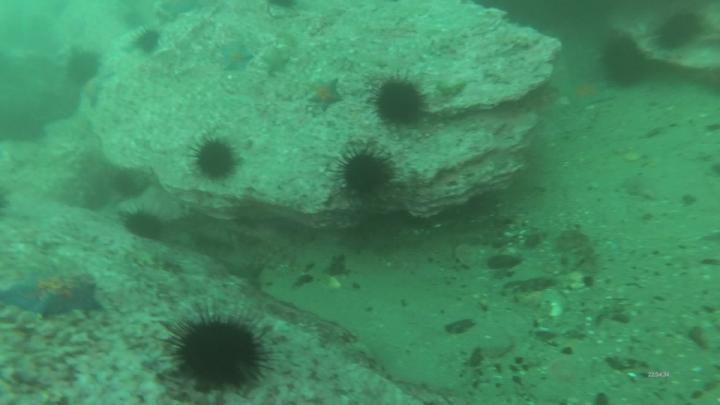echinus: (175, 321, 260, 389), (343, 150, 392, 193), (377, 83, 422, 123), (605, 39, 644, 83), (196, 143, 234, 180), (663, 16, 699, 48), (130, 211, 164, 241), (69, 51, 100, 83), (137, 30, 163, 52)
starfish: (6, 271, 105, 317), (571, 80, 613, 110), (310, 80, 338, 110), (222, 48, 251, 72)
